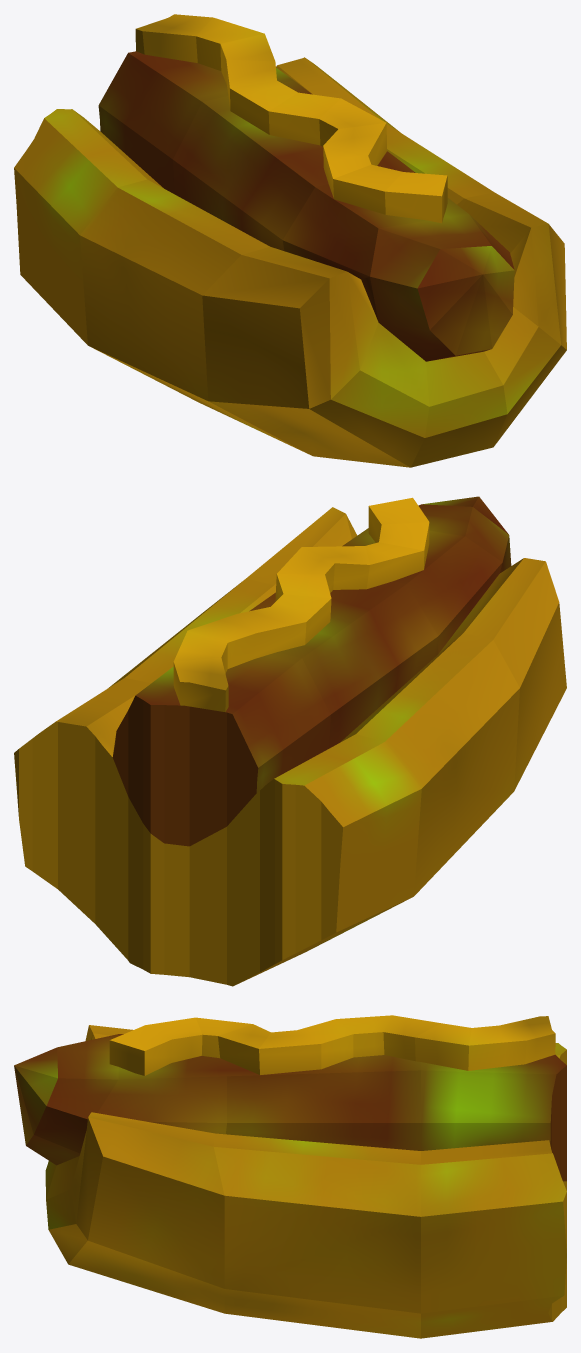
Rendered from hotdog.fbx.
3 renders of one model, top to bottom at view 1: azimuth 30°, elevation 25°; view 2: azimuth 150°, elevation 25°; view 3: azimuth 270°, elevation 25°, orthographic. The views are drawn at different scales.
Visible parts, largest first — view 1: CoockieMan.005; view 2: CoockieMan.005; view 3: CoockieMan.005.
Boxes of the visible parts, x1,y1,x2,y2 form: CoockieMan.005: (14, 14, 566, 467); CoockieMan.005: (14, 496, 566, 986); CoockieMan.005: (14, 1015, 566, 1338).
Bounding box in the file's own units: 103 × 93.5 × 163.
1 material, 1 textured.
